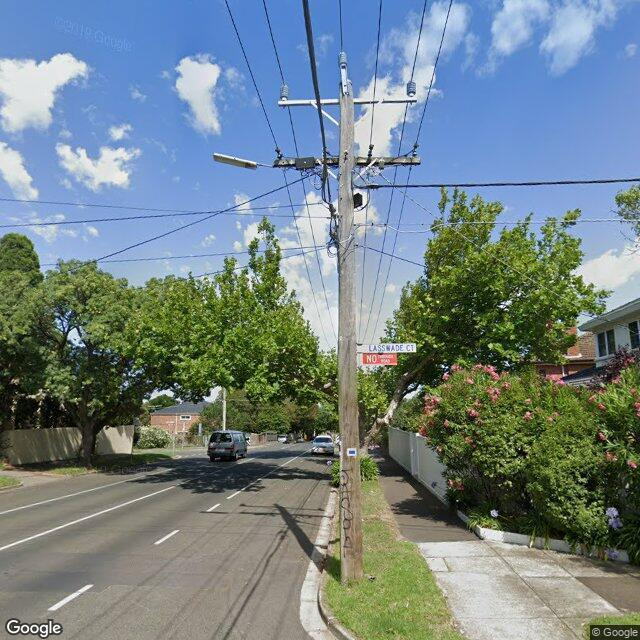HV-transmission: (280, 51, 417, 100)
crossarm: (272, 154, 421, 168), (278, 97, 416, 107)
streetlight: (212, 152, 272, 170)
timber-pole: (338, 79, 364, 583)
